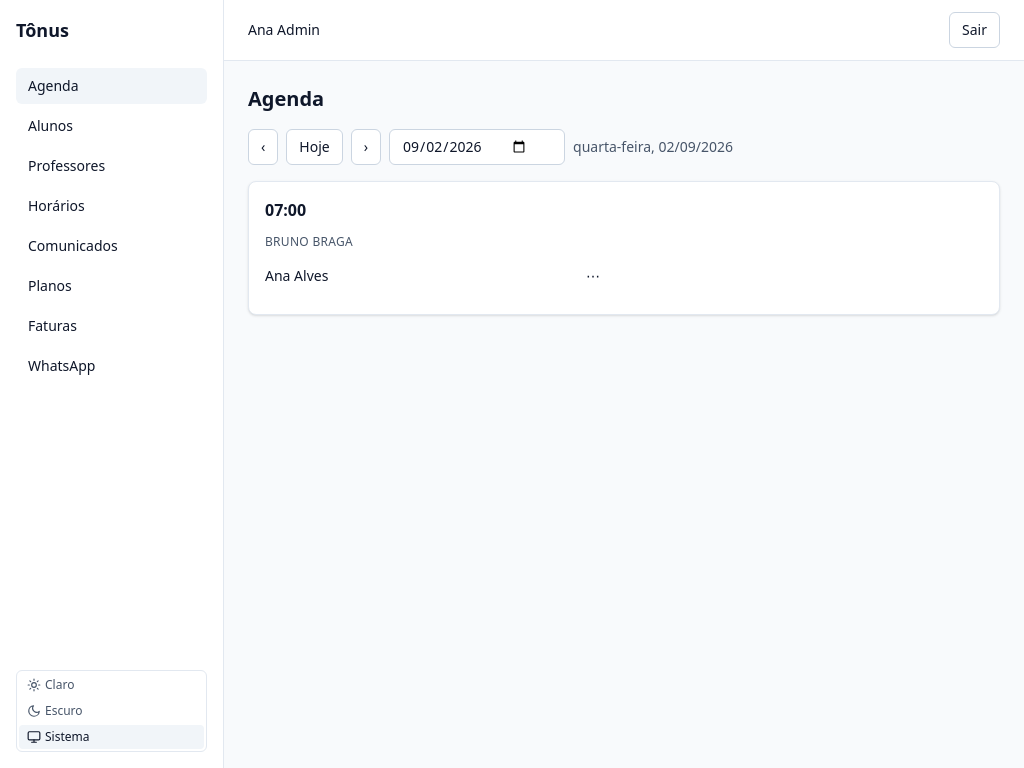
Test case: diálogo › abre com o foco no primeiro campo, não na ação destrutiva
Click the button named "Ações de Ana Alves" at (593, 276), box [574,258,612,294]
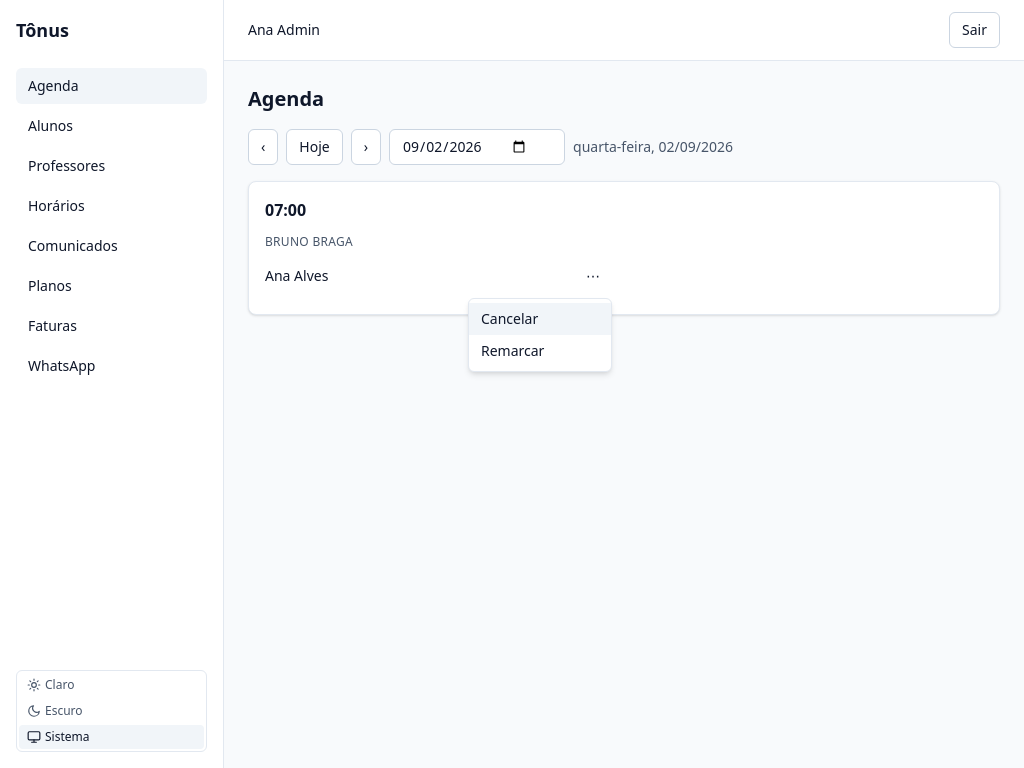
Click the menu item "Cancelar" at (540, 319), box [469,303,611,335]
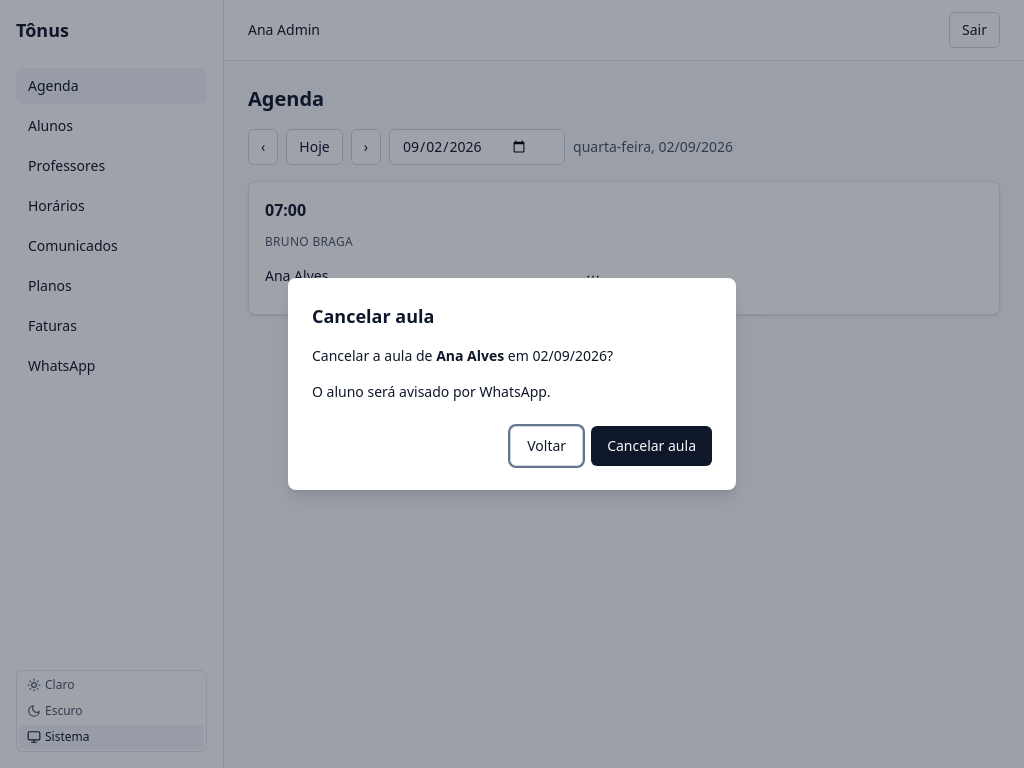
expect the dialog is shown: met, box [288,278,736,490]
